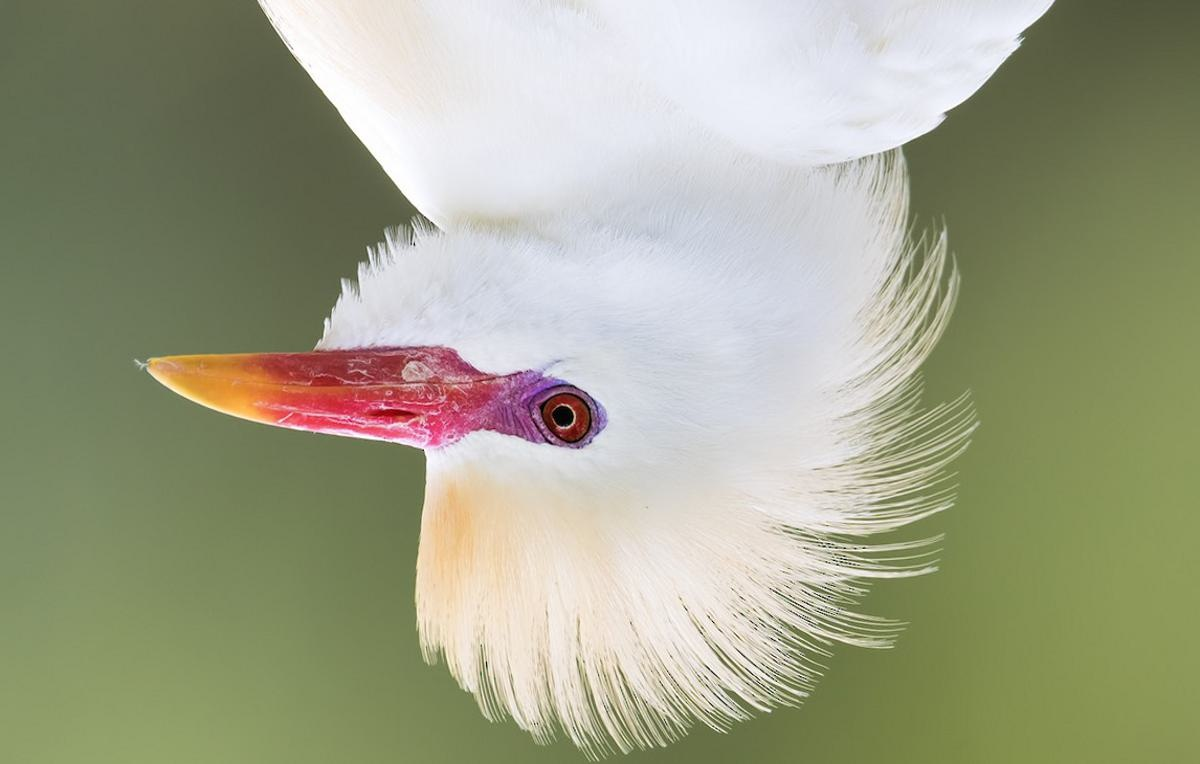egret: (121, 1, 1100, 728)
